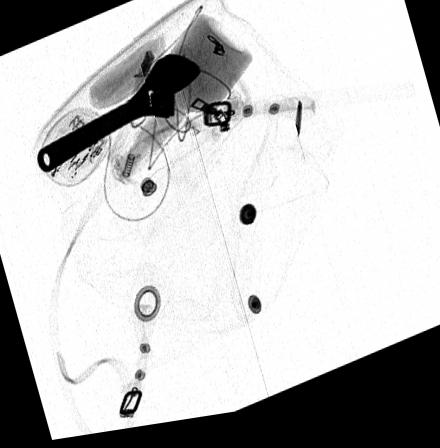Wrench: (37, 57, 200, 175)
